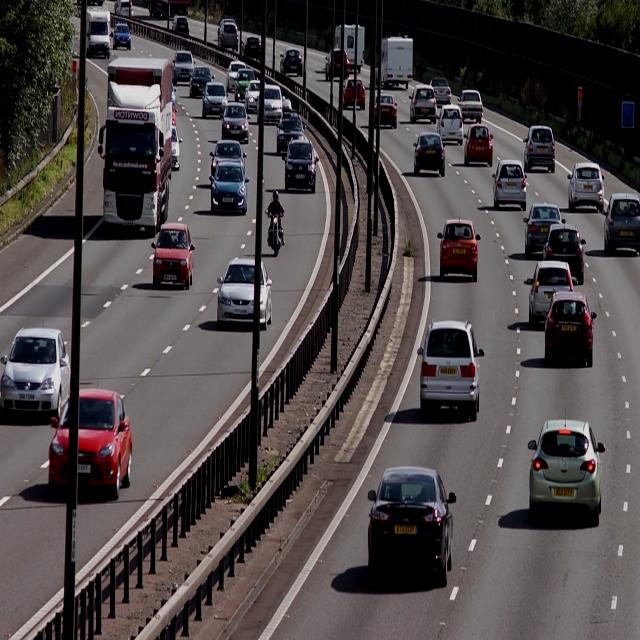Vehicle: (97, 57, 172, 237), (366, 464, 460, 594), (44, 389, 134, 499), (524, 419, 608, 524), (416, 316, 485, 422), (0, 325, 71, 418), (215, 256, 273, 331), (543, 296, 598, 364), (523, 260, 576, 328), (435, 220, 482, 286), (153, 222, 194, 290), (541, 228, 587, 288), (521, 200, 565, 259), (603, 192, 640, 256), (372, 34, 413, 90), (210, 160, 250, 216), (566, 159, 604, 216), (491, 158, 528, 214), (284, 139, 318, 194), (522, 125, 556, 174), (274, 98, 302, 156), (412, 134, 446, 178), (462, 123, 493, 170), (434, 104, 464, 147), (219, 104, 249, 145), (255, 85, 282, 128), (200, 81, 227, 121), (454, 88, 484, 123), (407, 87, 437, 121), (372, 94, 398, 131), (340, 77, 365, 114), (430, 74, 451, 109)
